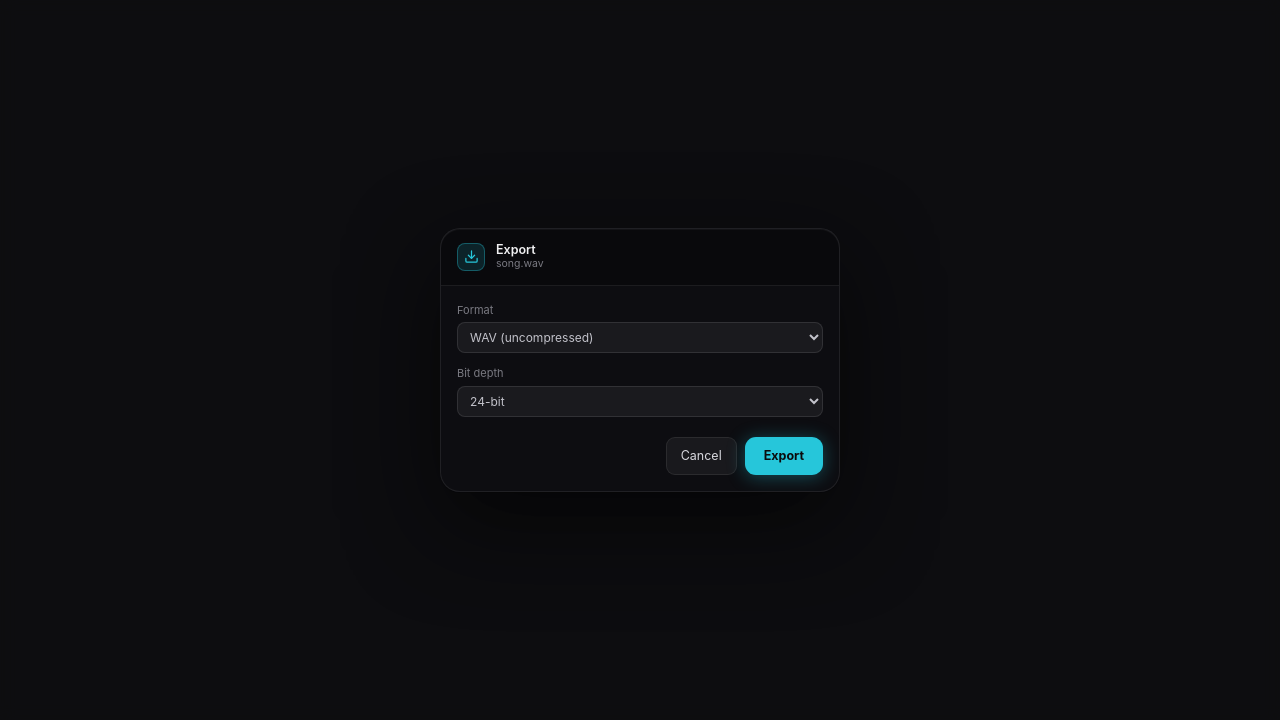
ExportDialog › swaps bit-depth for kbps when the format is set to MP3
Select "MP3 (compressed)" in the dropdown labelled "Format" at point(640, 338), box [457,322,823,353]
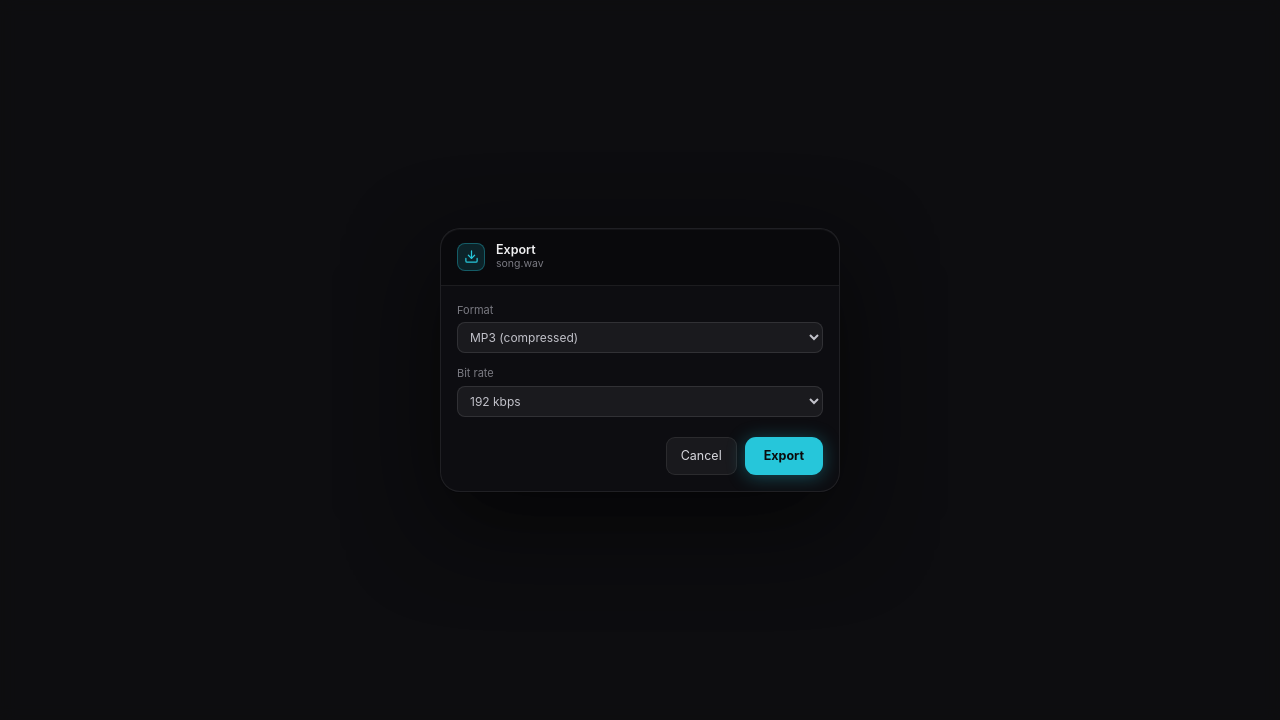
Check: the dropdown with test id "export-kbps" is shown, box [457,386,823,416]
